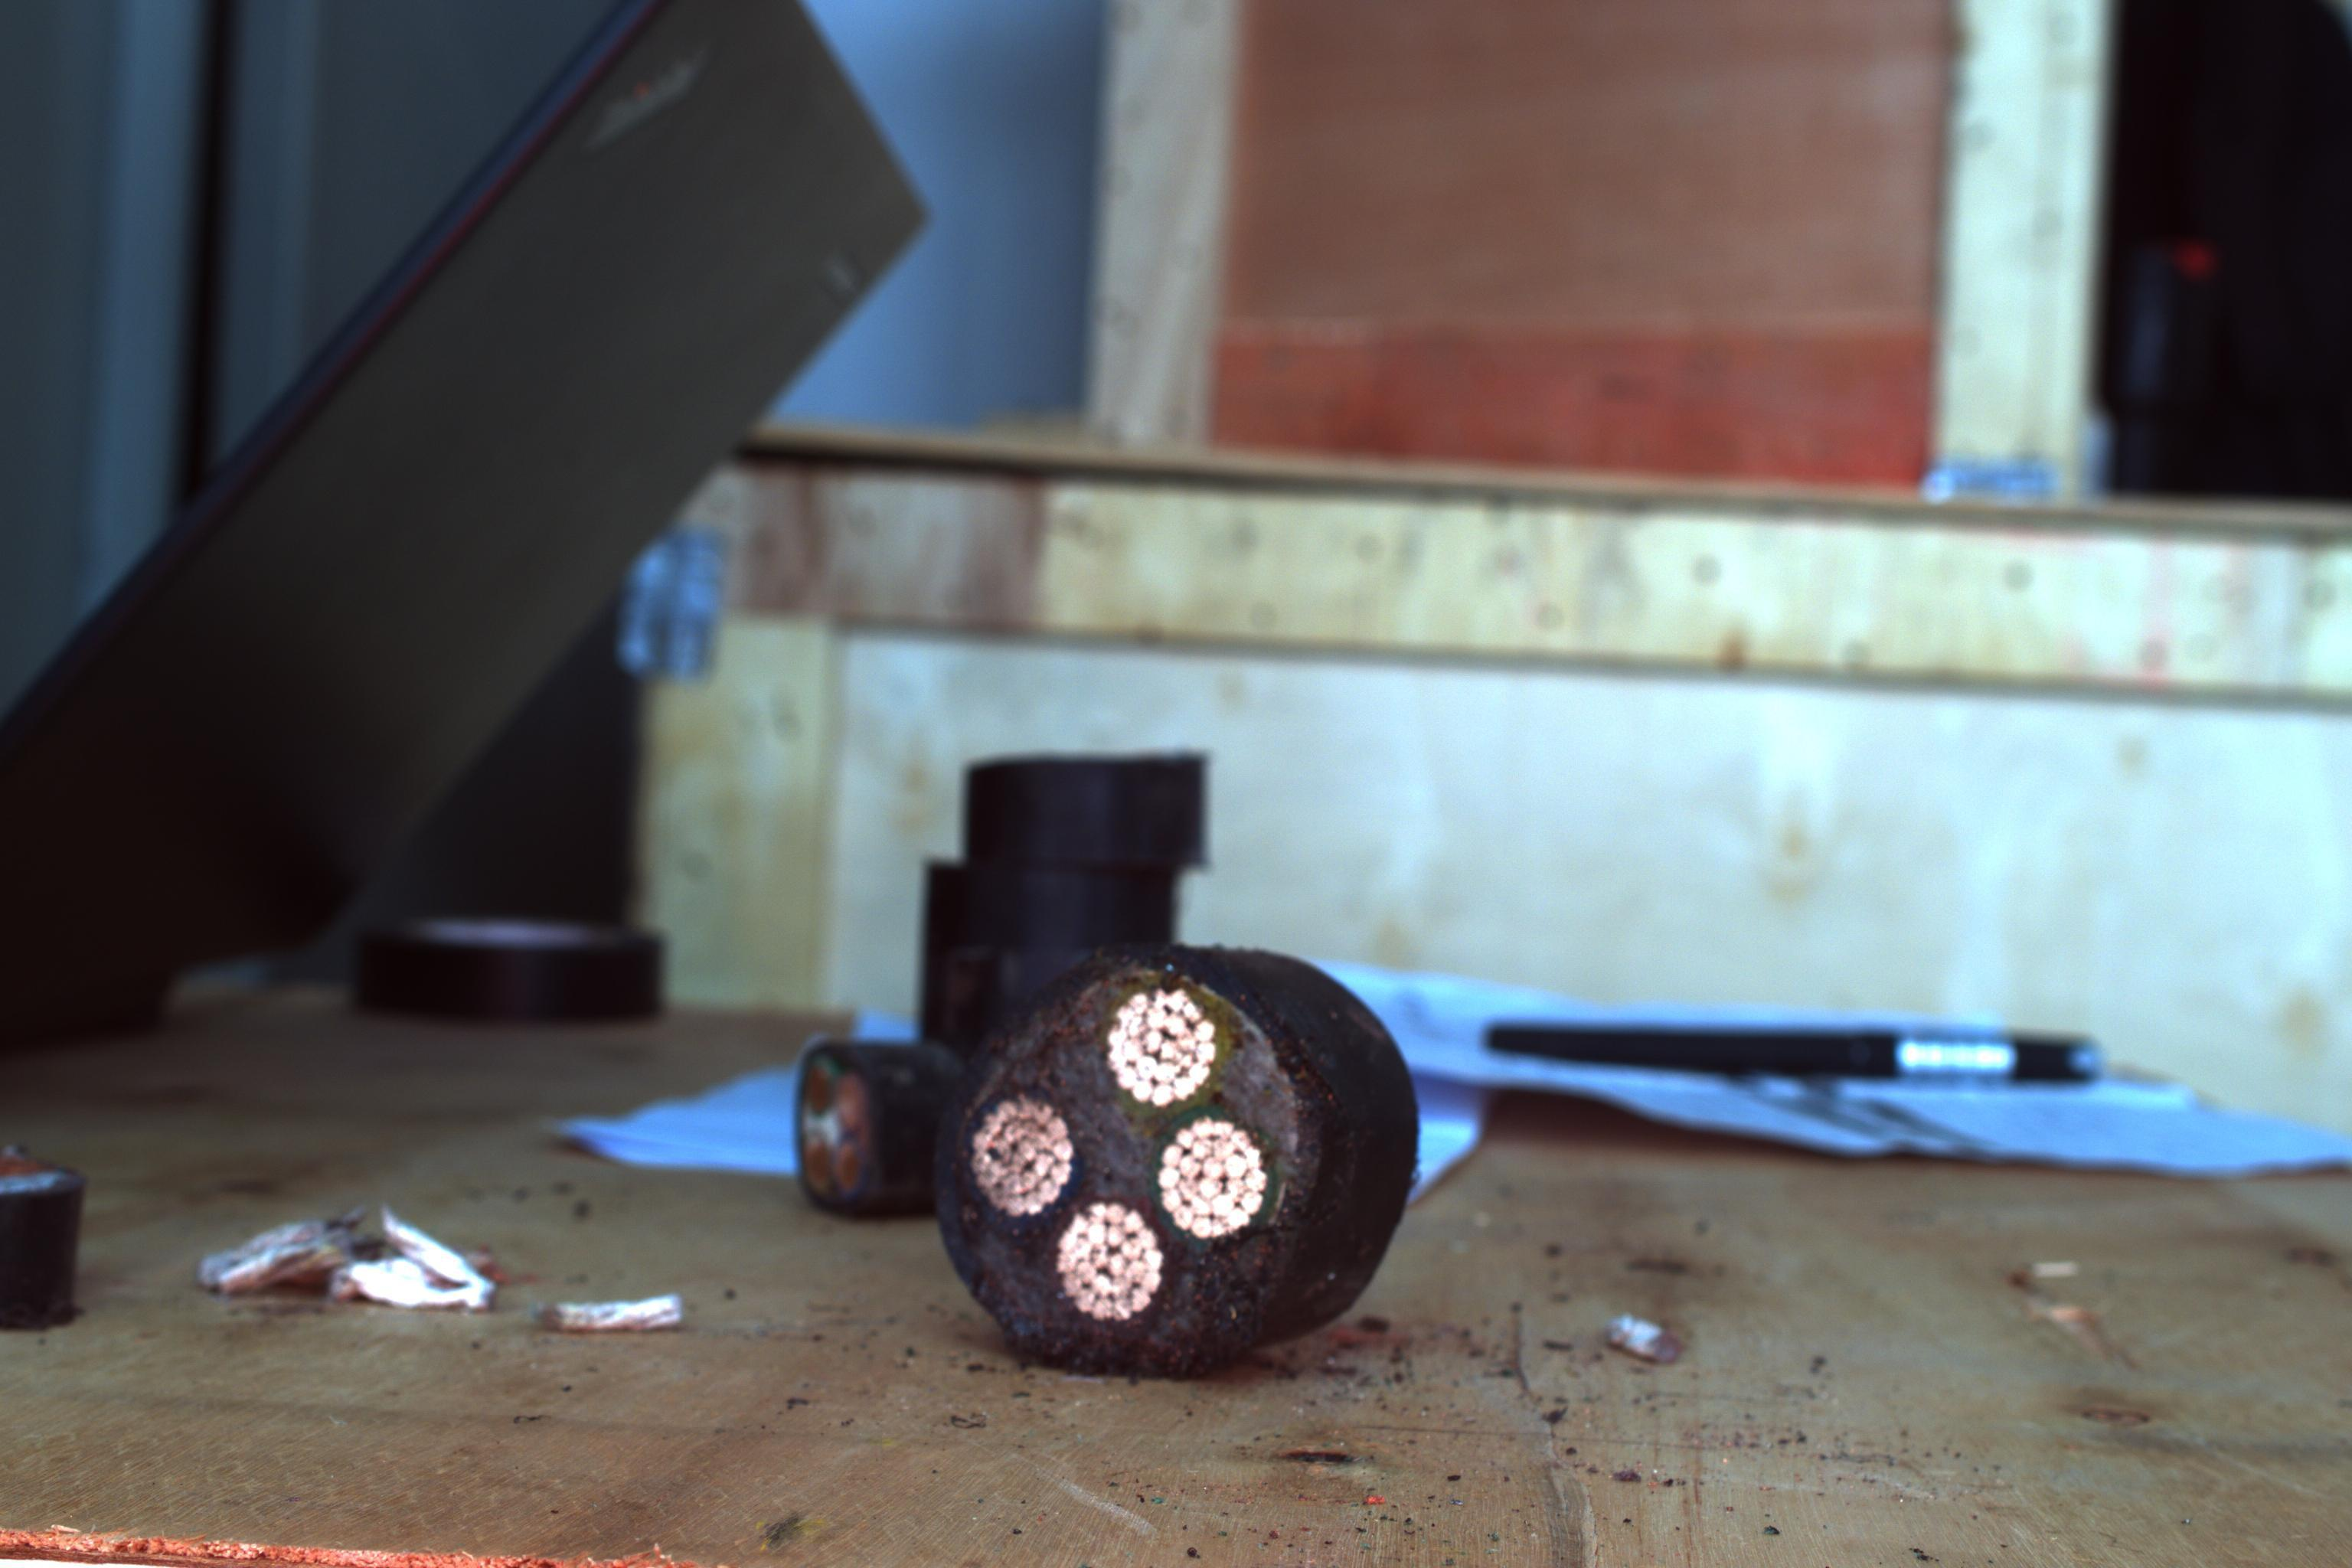YJV_0.6_1kV_4x120: (941, 957, 1314, 1370)
